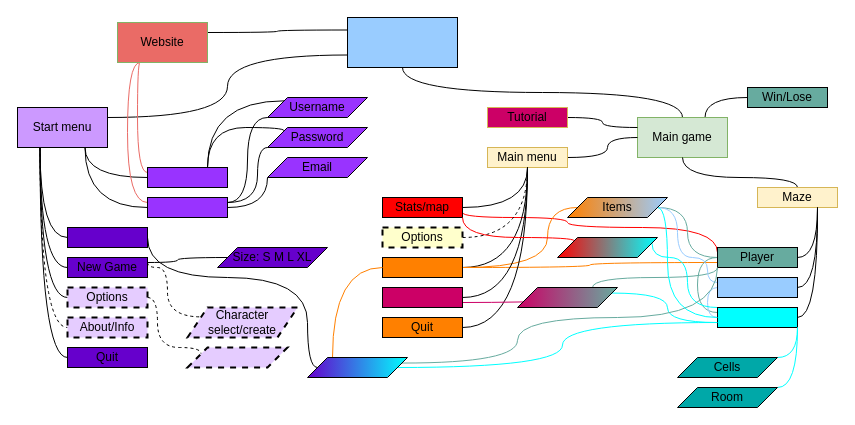
Image size: 855x425. Some labels were removed from this diagram. The shapes that lost their labels are listed below. From the top down, each one's centre as x and y in pixels, then its label:
At [402,42]: "Untitled maze game".
At [187,177]: "Login/Logout".
At [187,207]: "Register".
At [107,237]: "Continue".
At [607,247]: "Map".
At [422,267]: "Inventory".
At [757,287]: "Enemies".
At [422,297]: "Save".
At [567,297]: "Save()".
At [757,317]: "Floor".
At [237,357]: "Synch".
At [357,367]: "Load()".
